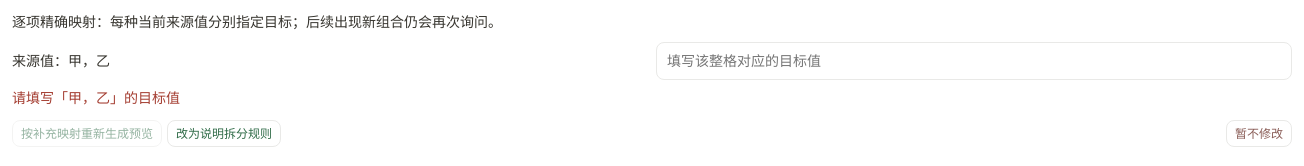
Test case: 本地映射补全卡 · 两宿主共用 › 宿主回调抛错时不把可能含源值的异常原文展示出来
The image size is (1304, 166).
Type "高" into the field named "来源值 甲，乙 的目标值" at (974, 61), box left=656, top=42, right=1292, bottom=80
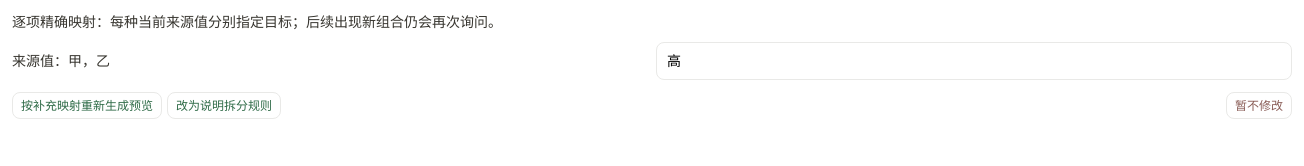
Click the button "按补充映射重新生成预览" at (87, 106), box left=12, top=92, right=162, bottom=119
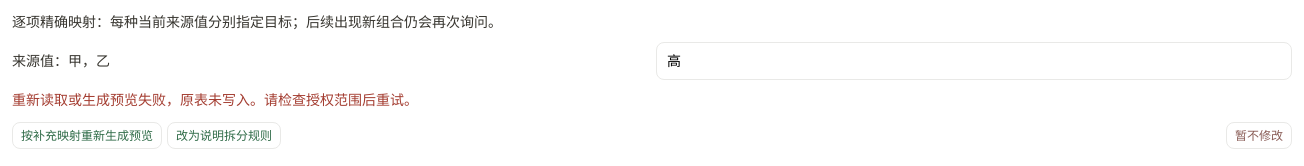
Now the message shows "原表未写入", box left=12, top=90, right=418, bottom=109
